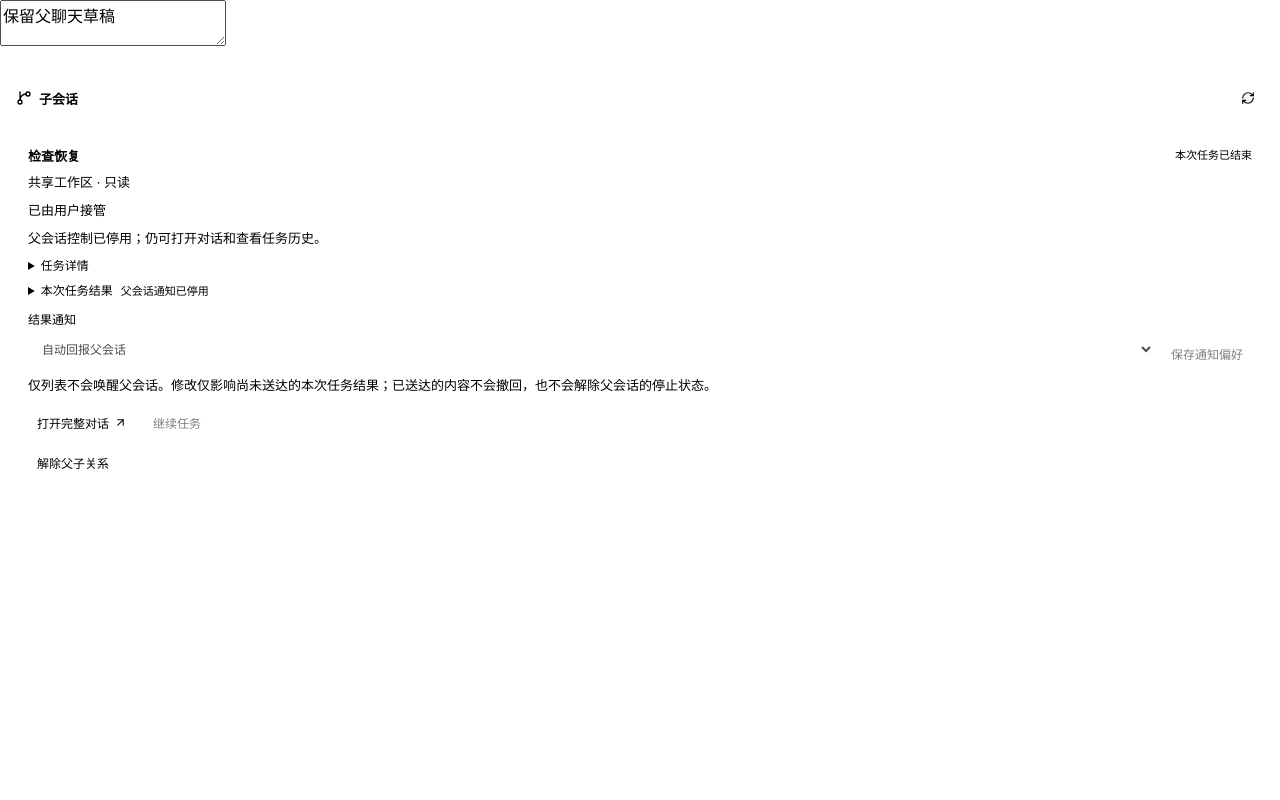
Scenario: can cancel detachment and retains the same request identity when its response is lost
Click the button "解除父子关系" at (73, 462), box [28,448,118,476]
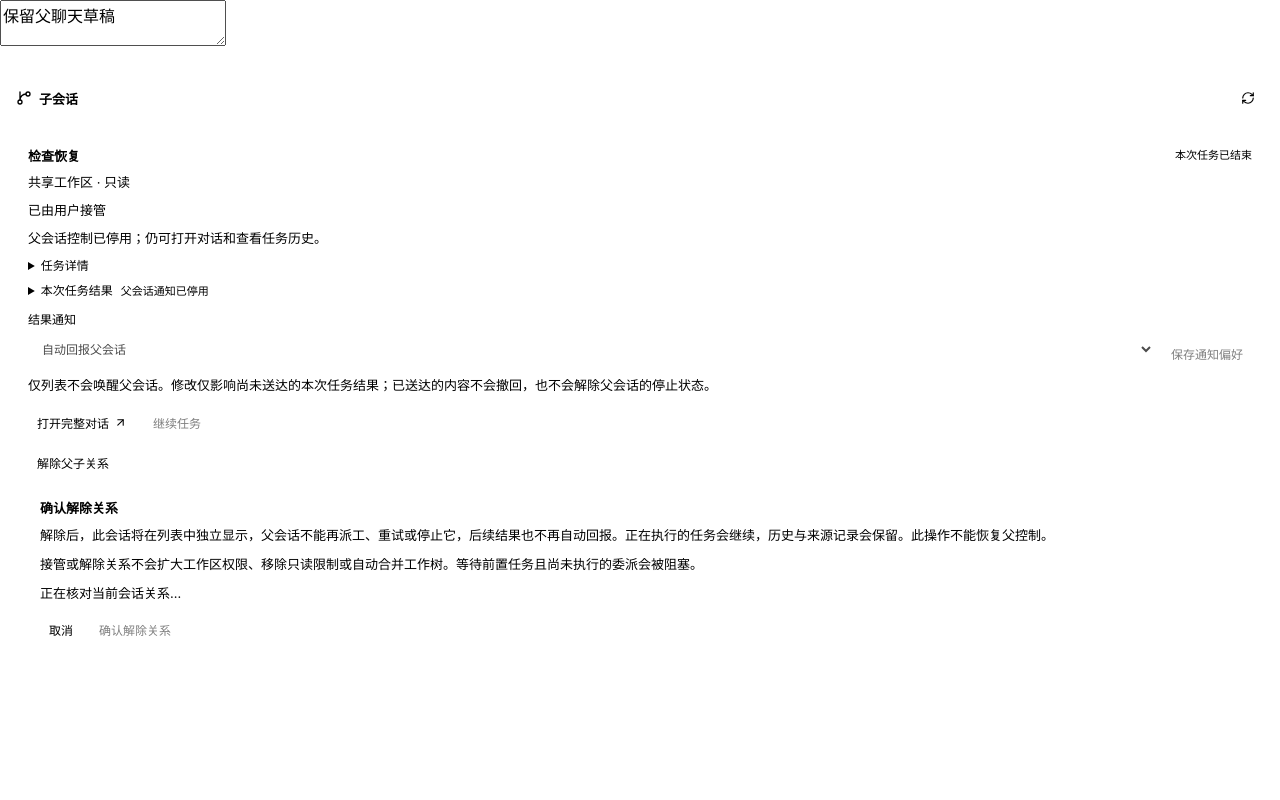
Click the button "取消" at (61, 630), box [40,616,82,644]
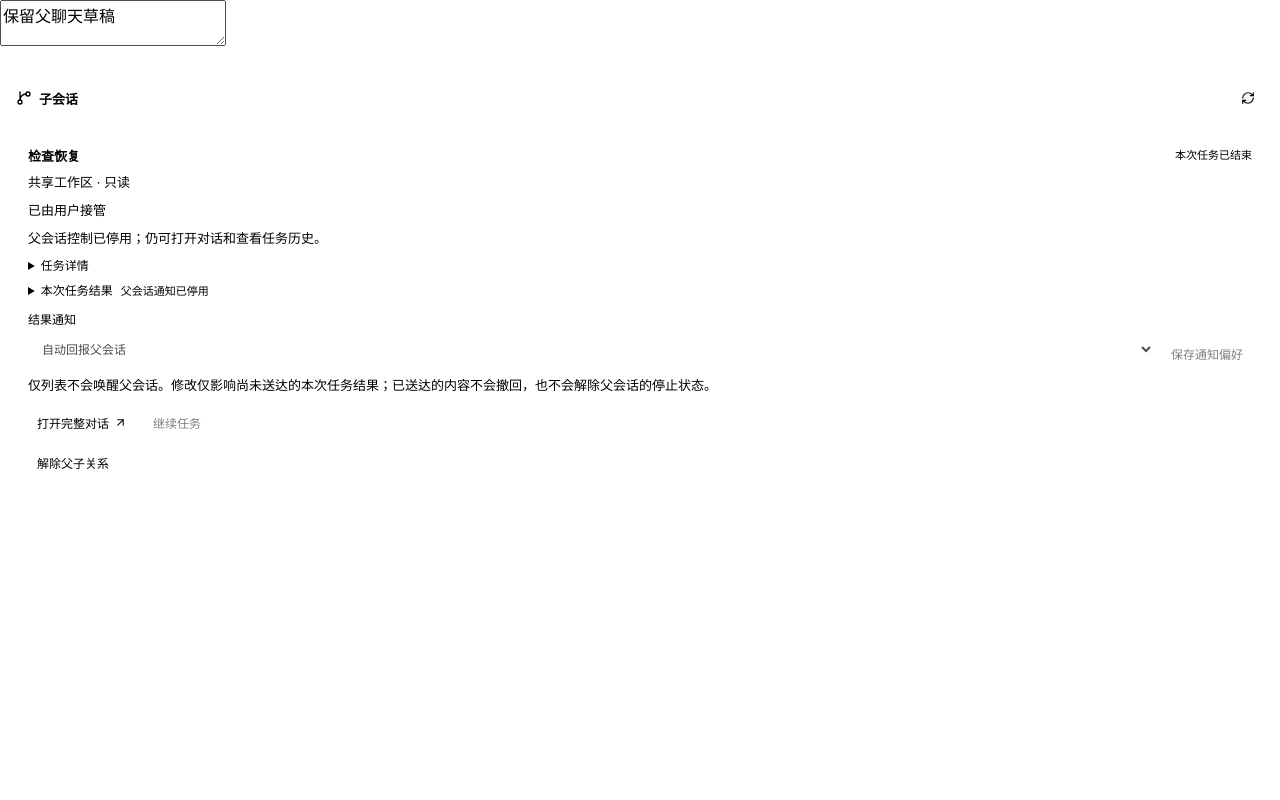
Click the button "解除父子关系" at (73, 462), box [28,448,118,476]
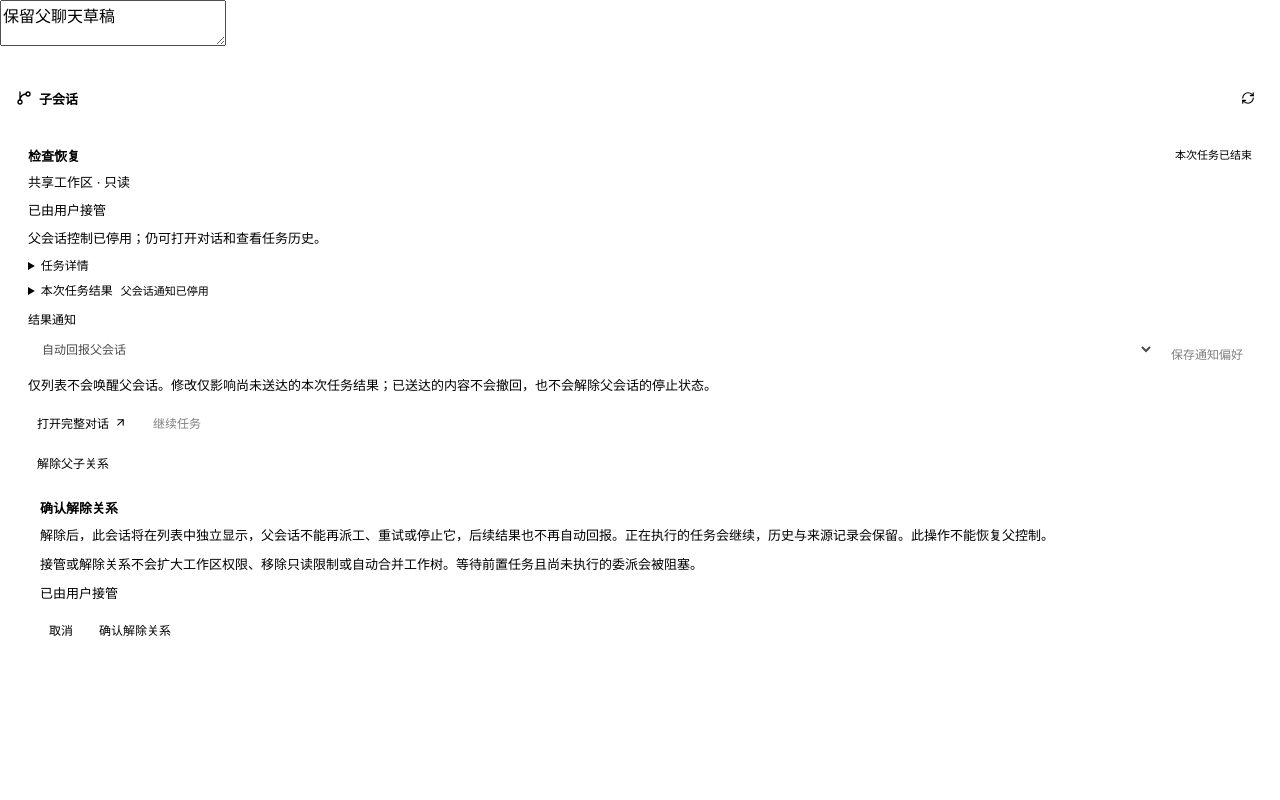
Check: the button "确认解除关系" is enabled
Click the button "确认解除关系" at (135, 630), box [90,616,180,644]
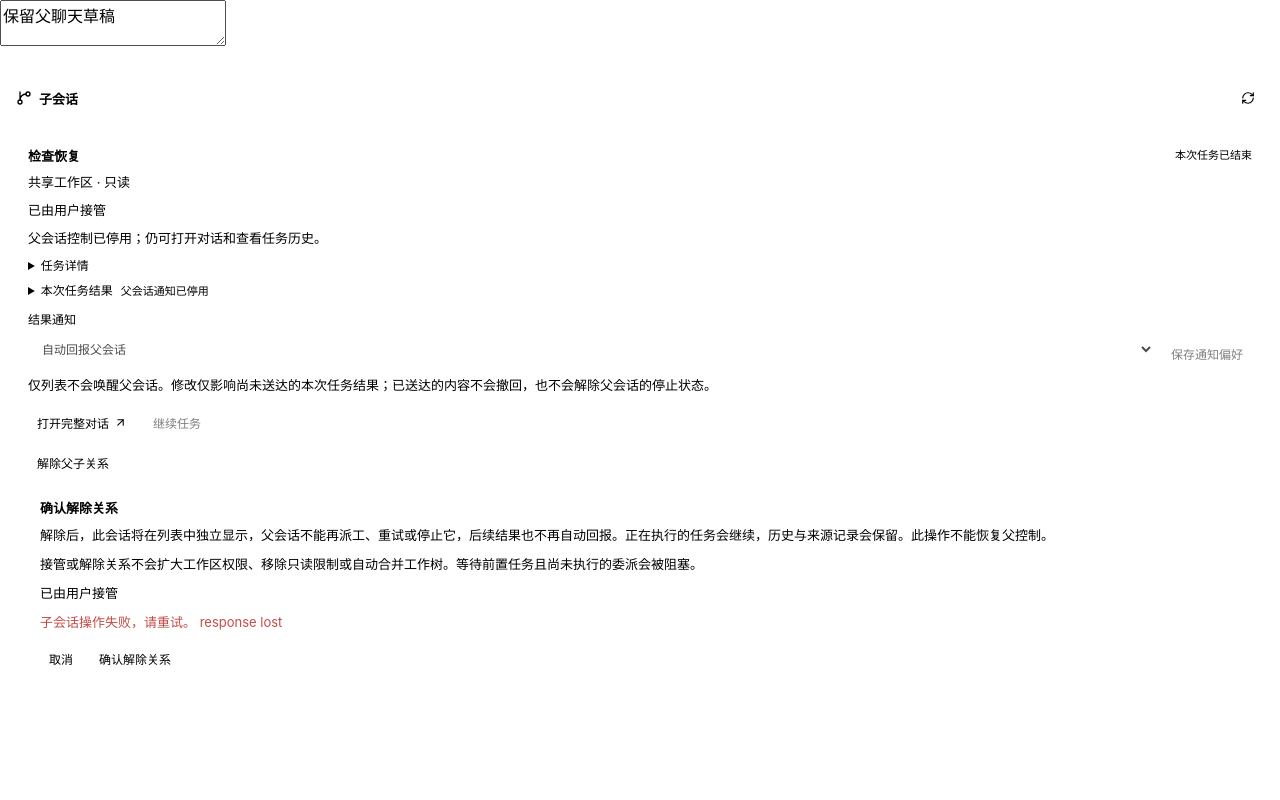
Check: the message "子会话操作失败，请重试。 response lost" is shown, box [40,614,282,630]
Click the button "确认解除关系" at (135, 658), box [90,644,180,672]
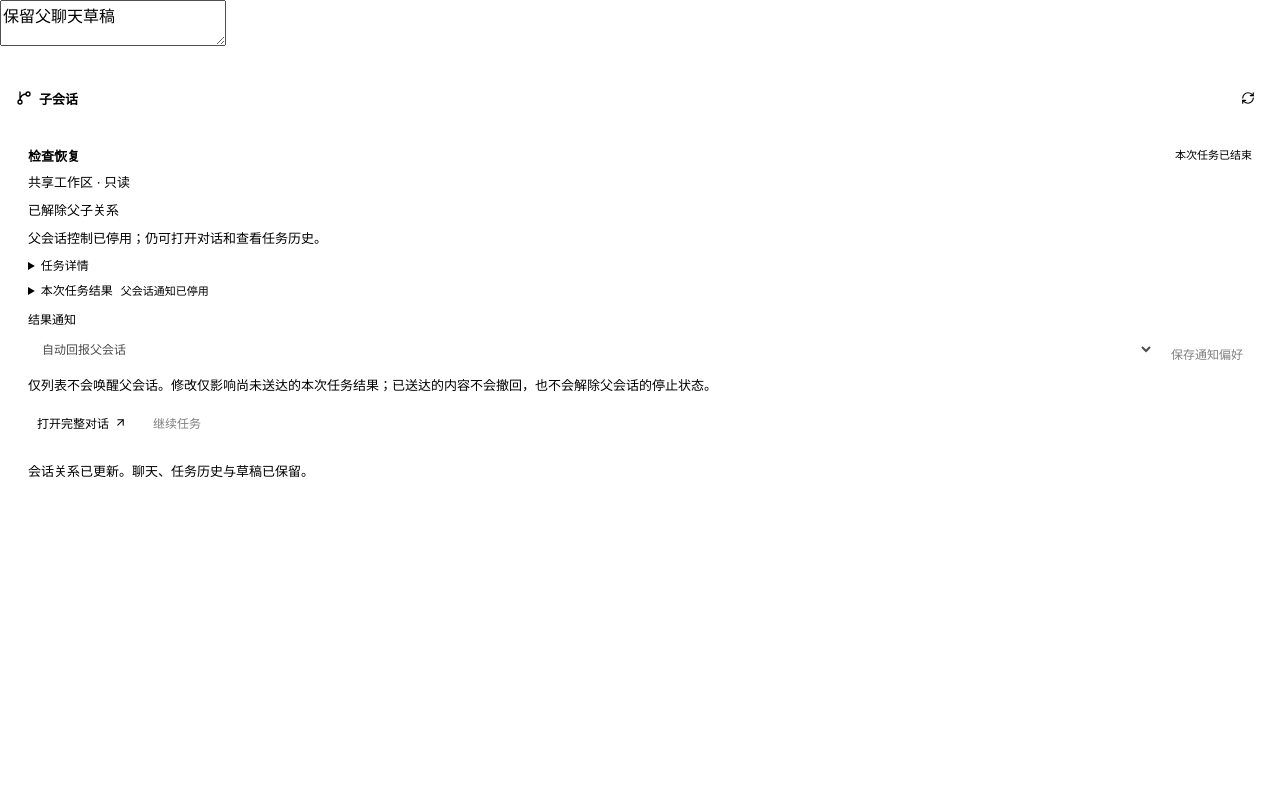
Check: the text "会话关系已更新。聊天、任务历史与草稿已保留。" is shown, box [28,463,314,479]
